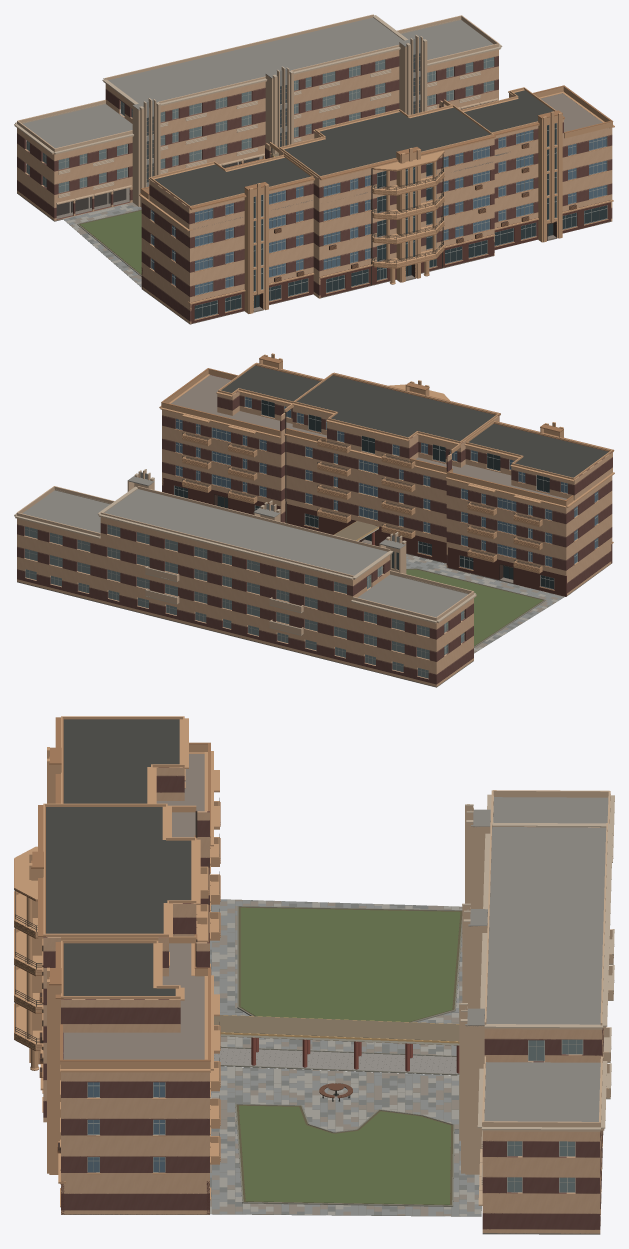
The model's file is xuhui-foncim-apartments-d-e-lod.glb.
3 renders of one model, top to bottom at view 1: azimuth 30°, elevation 25°; view 2: azimuth 150°, elevation 25°; view 3: azimuth 270°, elevation 25°, orthographic. The views are drawn at different scales.
Parts seen in each view (by area): view 1: 方建公寓D、E楼与庭院敞廊; view 2: 方建公寓D、E楼与庭院敞廊; view 3: 方建公寓D、E楼与庭院敞廊.
Boxes of the visible parts, box(x1,y1,x2,y2) form: 方建公寓D、E楼与庭院敞廊: box(14, 14, 614, 324); 方建公寓D、E楼与庭院敞廊: box(14, 353, 614, 687); 方建公寓D、E楼与庭院敞廊: box(14, 716, 614, 1234).
Size of the model in its own units: 68.65 by 19.24 by 51.33.
40 materials, 1 textured.
